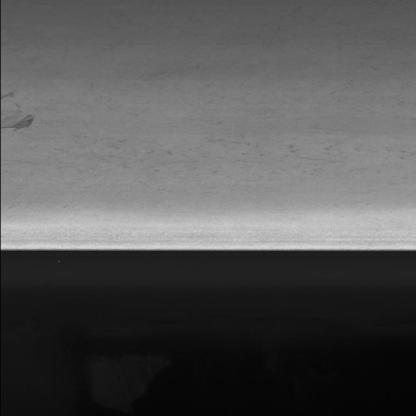silk_spot: (79, 84, 390, 178)
water_spot: (2, 83, 52, 137)
